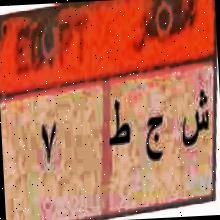7: (38, 112, 61, 168)
Taa: (106, 96, 132, 155)
jeem: (143, 112, 167, 165)
sheen: (177, 86, 212, 149)
